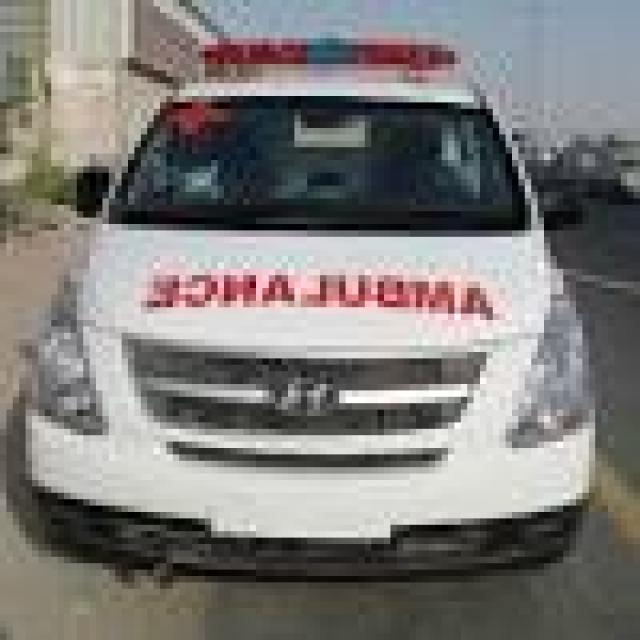ambulance: (25, 37, 589, 577)
